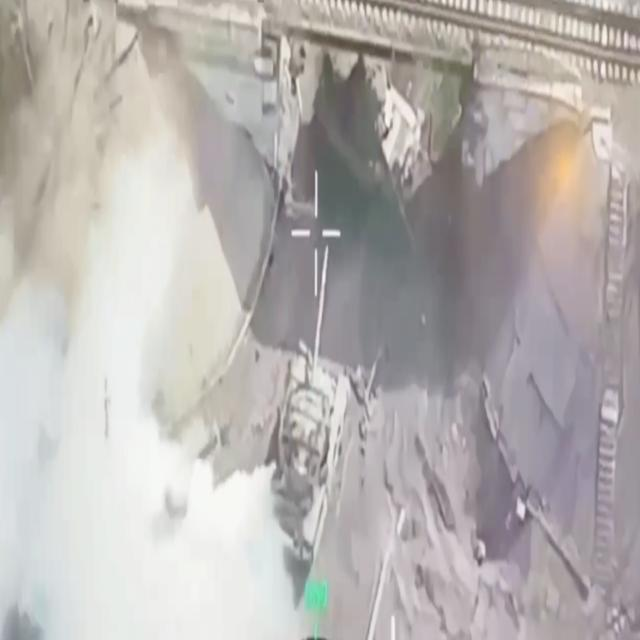vehicle: (263, 244, 348, 564)
